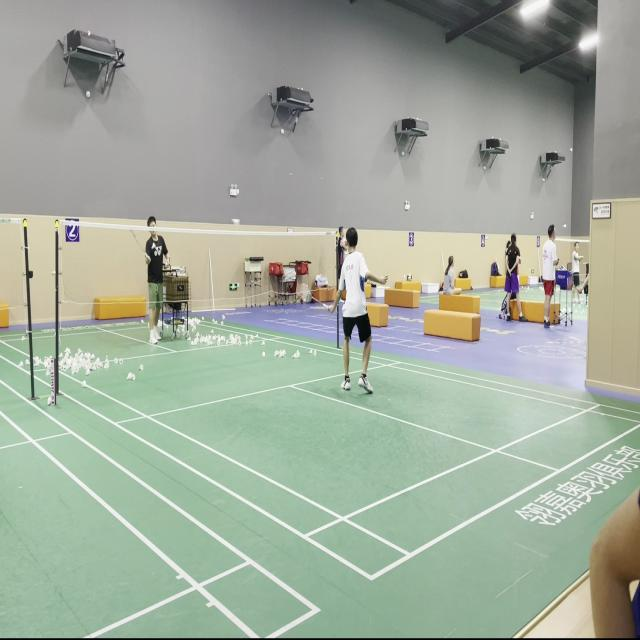shuttlecock: (232, 218, 242, 226)
